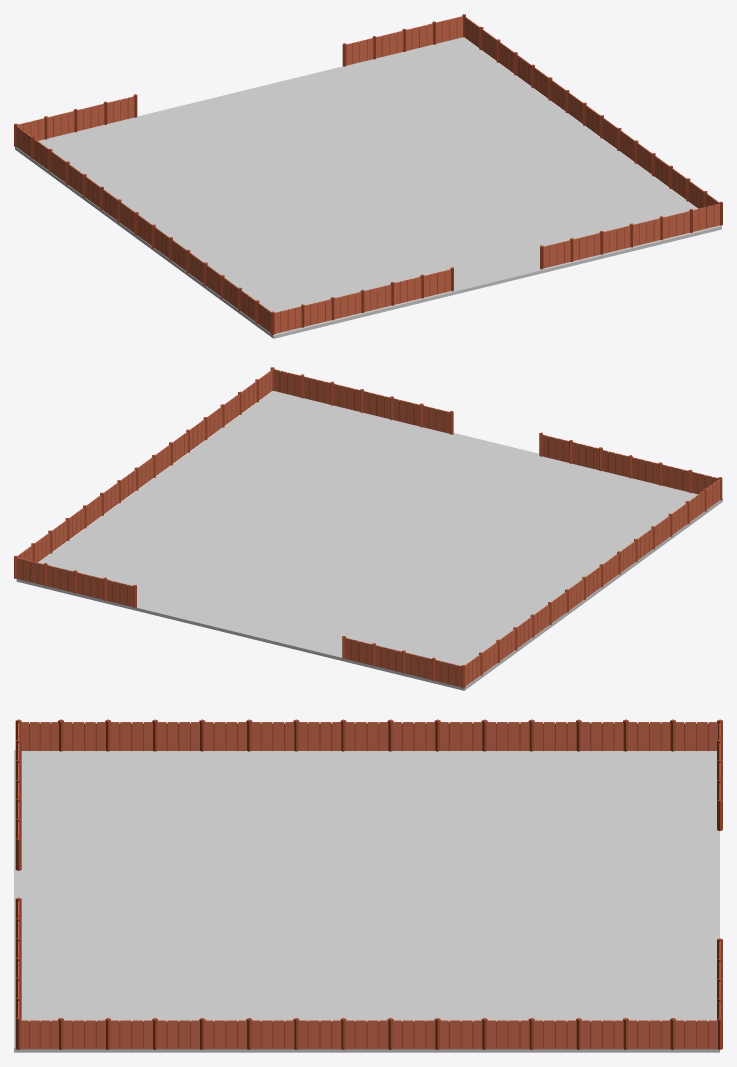
File: 15x15ground.glb
3 renders of one model, top to bottom at view 1: azimuth 30°, elevation 25°; view 2: azimuth 150°, elevation 25°; view 3: azimuth 270°, elevation 25°, orthographic. The views are drawn at different scales.
Visible parts, largest first — view 1: mergedBlocks(Clone); view 2: mergedBlocks(Clone); view 3: mergedBlocks(Clone).
Boxes of the visible parts, x1=… form: mergedBlocks(Clone): x1=14, y1=14, x2=722, y2=338; mergedBlocks(Clone): x1=14, y1=367, x2=722, y2=690; mergedBlocks(Clone): x1=14, y1=719, x2=722, y2=1052.
Bounding box in the file's own units: 15.13 × 0.82 × 15.06.
